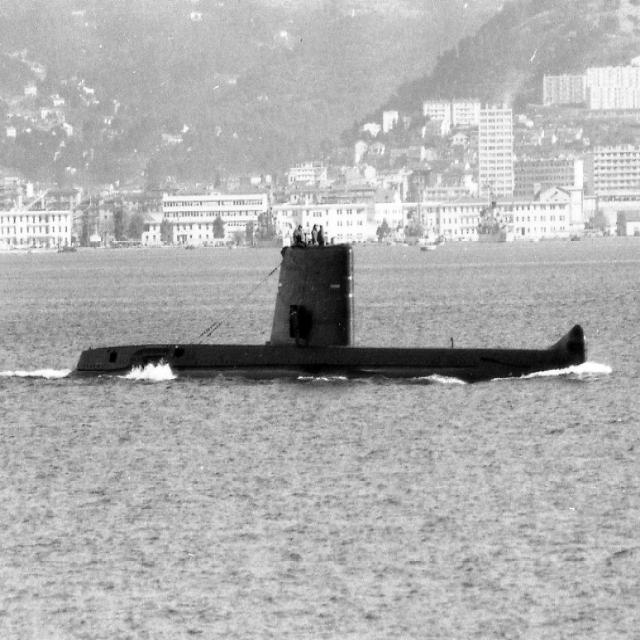submarine: (78, 224, 590, 373)
